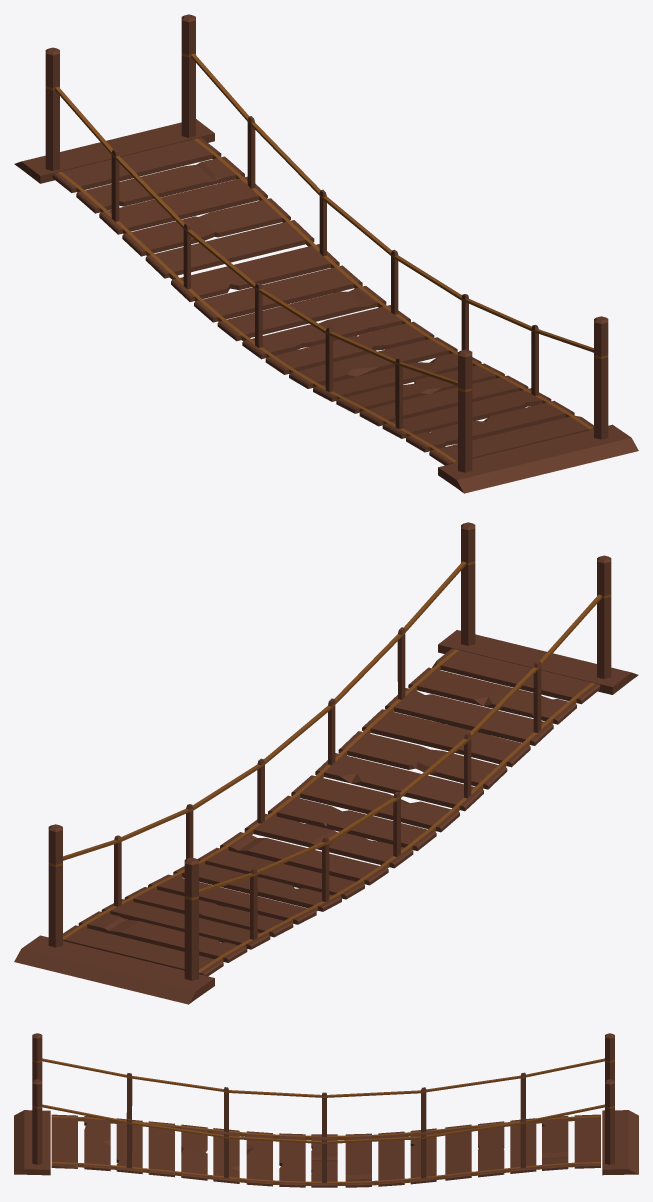
File: bridge_woodenlow-poly.glb
3 renders of one model, top to bottom at view 1: azimuth 30°, elevation 25°; view 2: azimuth 150°, elevation 25°; view 3: azimuth 270°, elevation 25°, orthographic. The views are drawn at different scales.
Visible parts, largest first — view 1: Wooden_Bridge_01; view 2: Wooden_Bridge_01; view 3: Wooden_Bridge_01.
Part boxes in pixels (x1,y1,x2,y2): Wooden_Bridge_01: (14,14,638,493); Wooden_Bridge_01: (14,522,638,1004); Wooden_Bridge_01: (14,1033,638,1187).
Size of the model in its own units: 4 by 3.3 by 17.84.
Materials: 1 (1 with a texture image).
